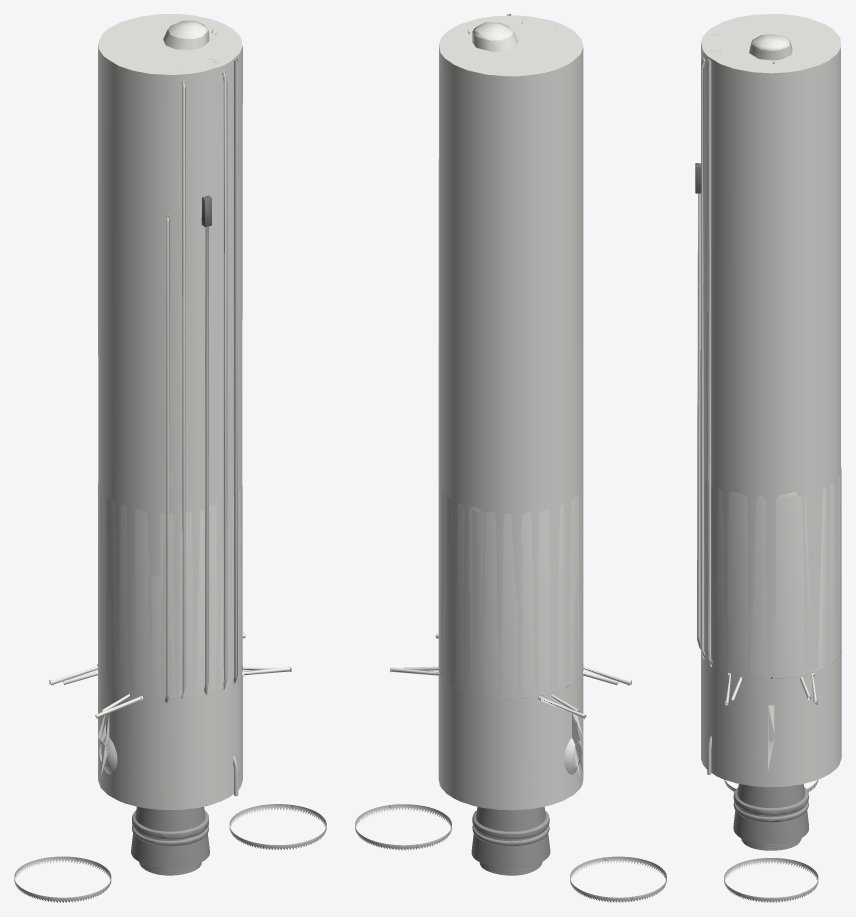
File: ariane5.glb
3 views of the same model, side by side, from view 1: azimuth 30°, elevation 25°; view 2: azimuth 150°, elevation 25°; view 3: azimuth 270°, elevation 25° (orthographic). The views are drawn at different scales.
Parts seen in each view (by area): view 1: EPC-mesh, fairing-mesh, ESC-A-mesh, EAP-mesh; view 2: EPC-mesh, fairing-mesh, ESC-A-mesh, EAP-mesh; view 3: EPC-mesh, fairing-mesh, ESC-A-mesh, EAP-mesh.
Boxes of the visible parts, x1,y1,x2,y2 form: EPC-mesh: (14,14,326,902); fairing-mesh: (98,483,242,809); ESC-A-mesh: (98,666,242,808); EAP-mesh: (131,20,216,868); EPC-mesh: (355,14,666,902); fairing-mesh: (438,483,582,810); ESC-A-mesh: (438,666,583,808); EAP-mesh: (465,22,550,868); EPC-mesh: (695,14,840,902); fairing-mesh: (701,467,841,787); ESC-A-mesh: (701,650,841,785); EAP-mesh: (733,34,808,843).
Size of the model in its own units: 13 by 34.59 by 5.67.
8 materials, 1 textured.
